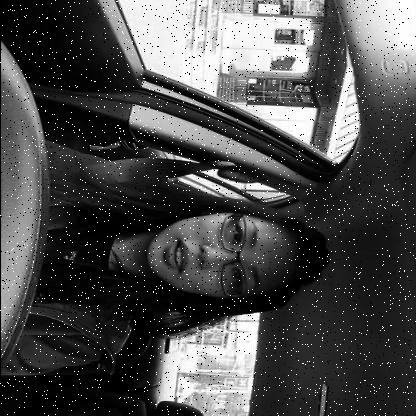seatbelt: (26, 157, 333, 320)
